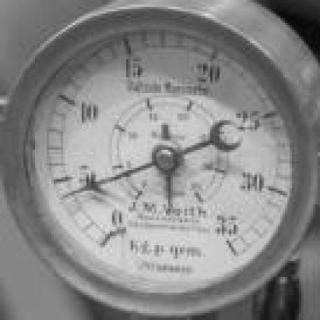gauge: (0, 7, 320, 320), (206, 216, 248, 264), (92, 206, 132, 256), (153, 137, 183, 177), (56, 188, 76, 205), (164, 196, 173, 213)
